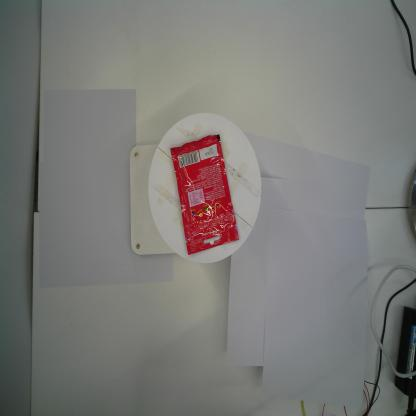Candy: (170, 133, 242, 258)
